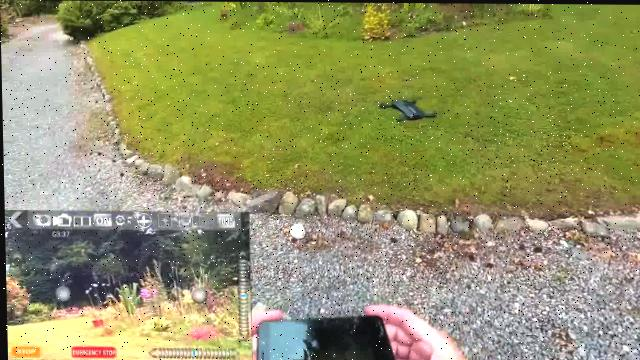drone: (360, 67, 454, 148)
